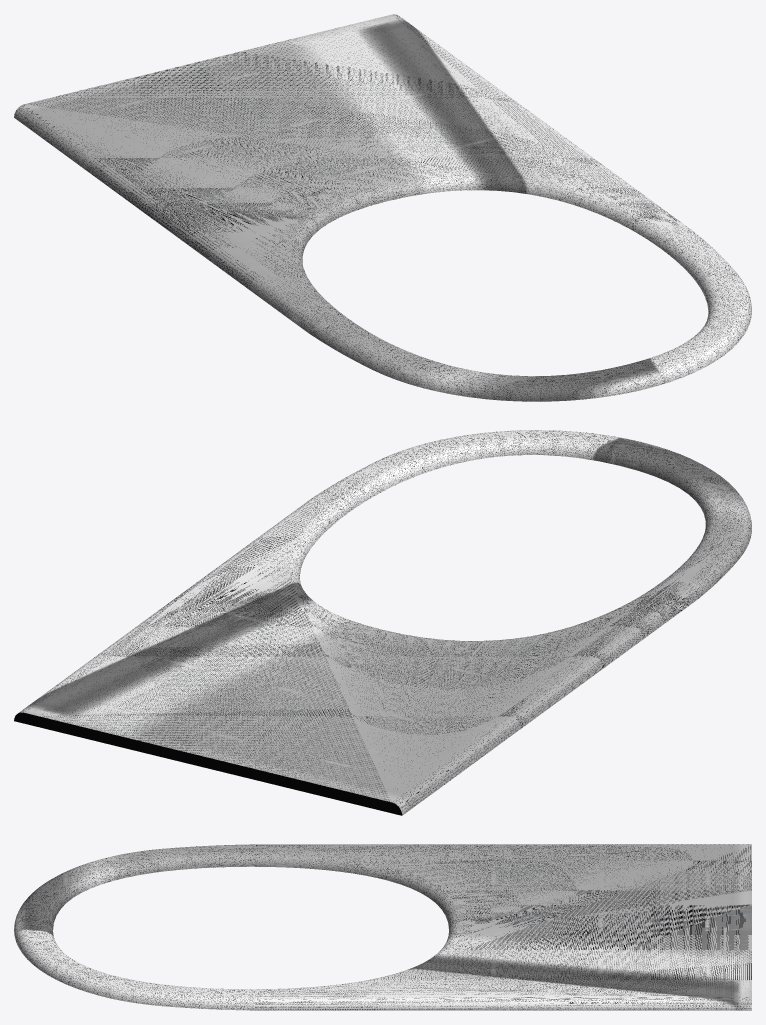
File: original-6.obj
3 views of the same model, one above another, from view 1: azimuth 30°, elevation 25°; view 2: azimuth 150°, elevation 25°; view 3: azimuth 270°, elevation 25° (orthographic). The views are drawn at different scales.
Parts seen in each view (by area): view 1: Component_7_1/Component_7/mesh6/mesh6-geometry#mesh6-geometry; view 2: Component_7_1/Component_7/mesh6/mesh6-geometry#mesh6-geometry; view 3: Component_7_1/Component_7/mesh6/mesh6-geometry#mesh6-geometry.
Boxes of the visible parts, <box> form: Component_7_1/Component_7/mesh6/mesh6-geometry#mesh6-geometry: <box>14,14,751,401</box>; Component_7_1/Component_7/mesh6/mesh6-geometry#mesh6-geometry: <box>14,430,751,815</box>; Component_7_1/Component_7/mesh6/mesh6-geometry#mesh6-geometry: <box>14,844,751,1010</box>.
Size of the model in its own units: 0.7608 by 0.0204 by 1.48.
